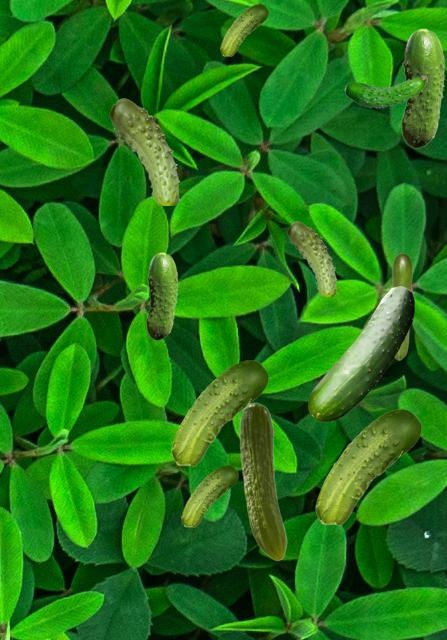cucumber: (308, 286, 413, 420), (315, 409, 420, 524), (171, 360, 267, 465), (239, 402, 286, 560), (109, 98, 179, 204), (401, 28, 444, 147), (287, 221, 336, 295), (181, 465, 237, 526), (344, 71, 426, 107), (146, 252, 177, 339), (220, 4, 267, 55), (391, 253, 411, 359)
